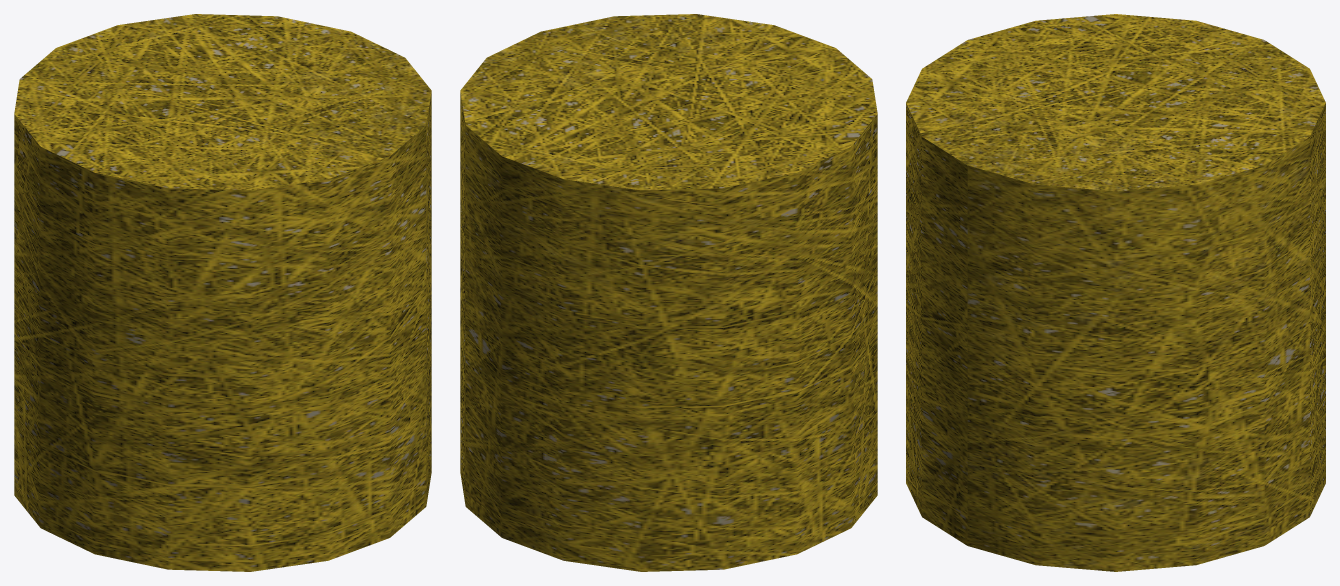
Rendered from bottedefoinround.glb.
3 renders of one model, left to right at view 1: azimuth 30°, elevation 25°; view 2: azimuth 150°, elevation 25°; view 3: azimuth 270°, elevation 25°, orthographic.
Parts seen in each view (by area): view 1: bottedefoinround; view 2: bottedefoinround; view 3: bottedefoinround.
Boxes of the visible parts, x1,y1,x2,y2 form: bottedefoinround: [14, 14, 431, 571]; bottedefoinround: [460, 14, 877, 571]; bottedefoinround: [906, 14, 1325, 571].
Bounding box in the file's own units: 2 × 2 × 2.
1 material, 1 textured.
